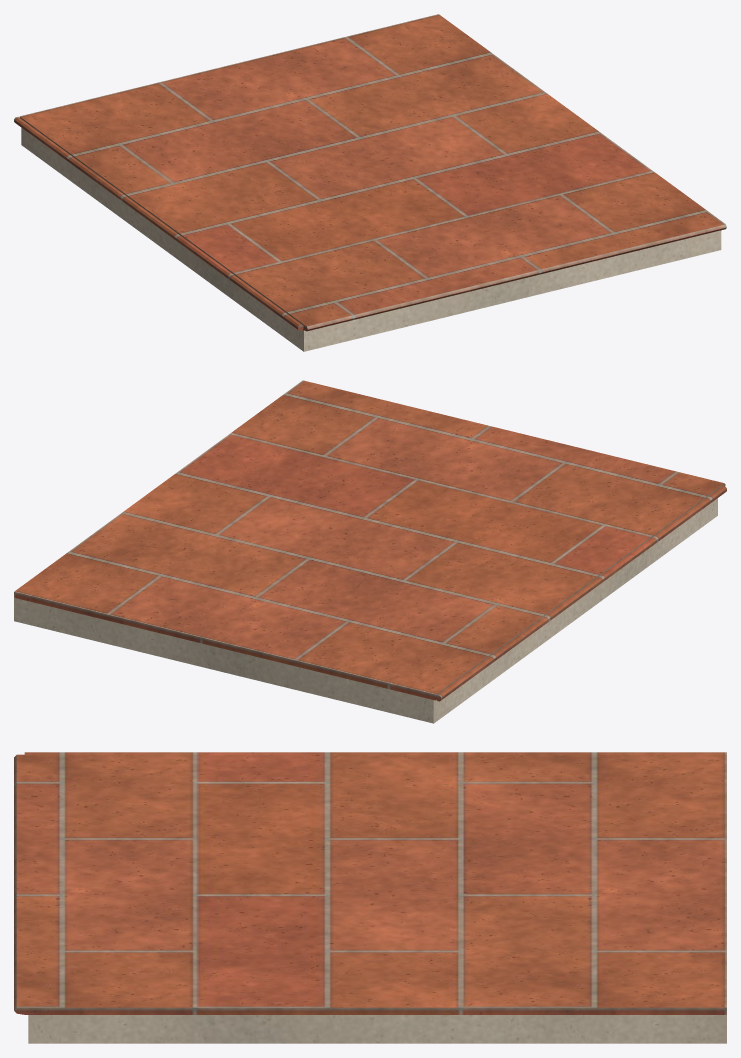
The model's file is arcade_floor_end_l.glb.
The picture shows the model from 3 angles, top to bottom: view 1: azimuth 30°, elevation 25°; view 2: azimuth 150°, elevation 25°; view 3: azimuth 270°, elevation 25°; orthographic projection. The views are drawn at different scales.
Parts seen in each view (by area): view 1: arcade_floor_end_l_saltillo, arcade_floor_end_l_render; view 2: arcade_floor_end_l_saltillo, arcade_floor_end_l_render; view 3: arcade_floor_end_l_saltillo, arcade_floor_end_l_render.
Boxes of the visible parts, x1=… form: arcade_floor_end_l_saltillo: x1=14, y1=14, x2=726, y2=331; arcade_floor_end_l_render: x1=21, y1=128, x2=721, y2=351; arcade_floor_end_l_saltillo: x1=14, y1=380, x2=726, y2=701; arcade_floor_end_l_render: x1=14, y1=498, x2=717, y2=723; arcade_floor_end_l_saltillo: x1=14, y1=752, x2=726, y2=1014; arcade_floor_end_l_render: x1=28, y1=1015, x2=726, y2=1043.
Bounding box in the file's own units: 2.28 × 0.15 × 2.68.
2 materials, 2 textured.
